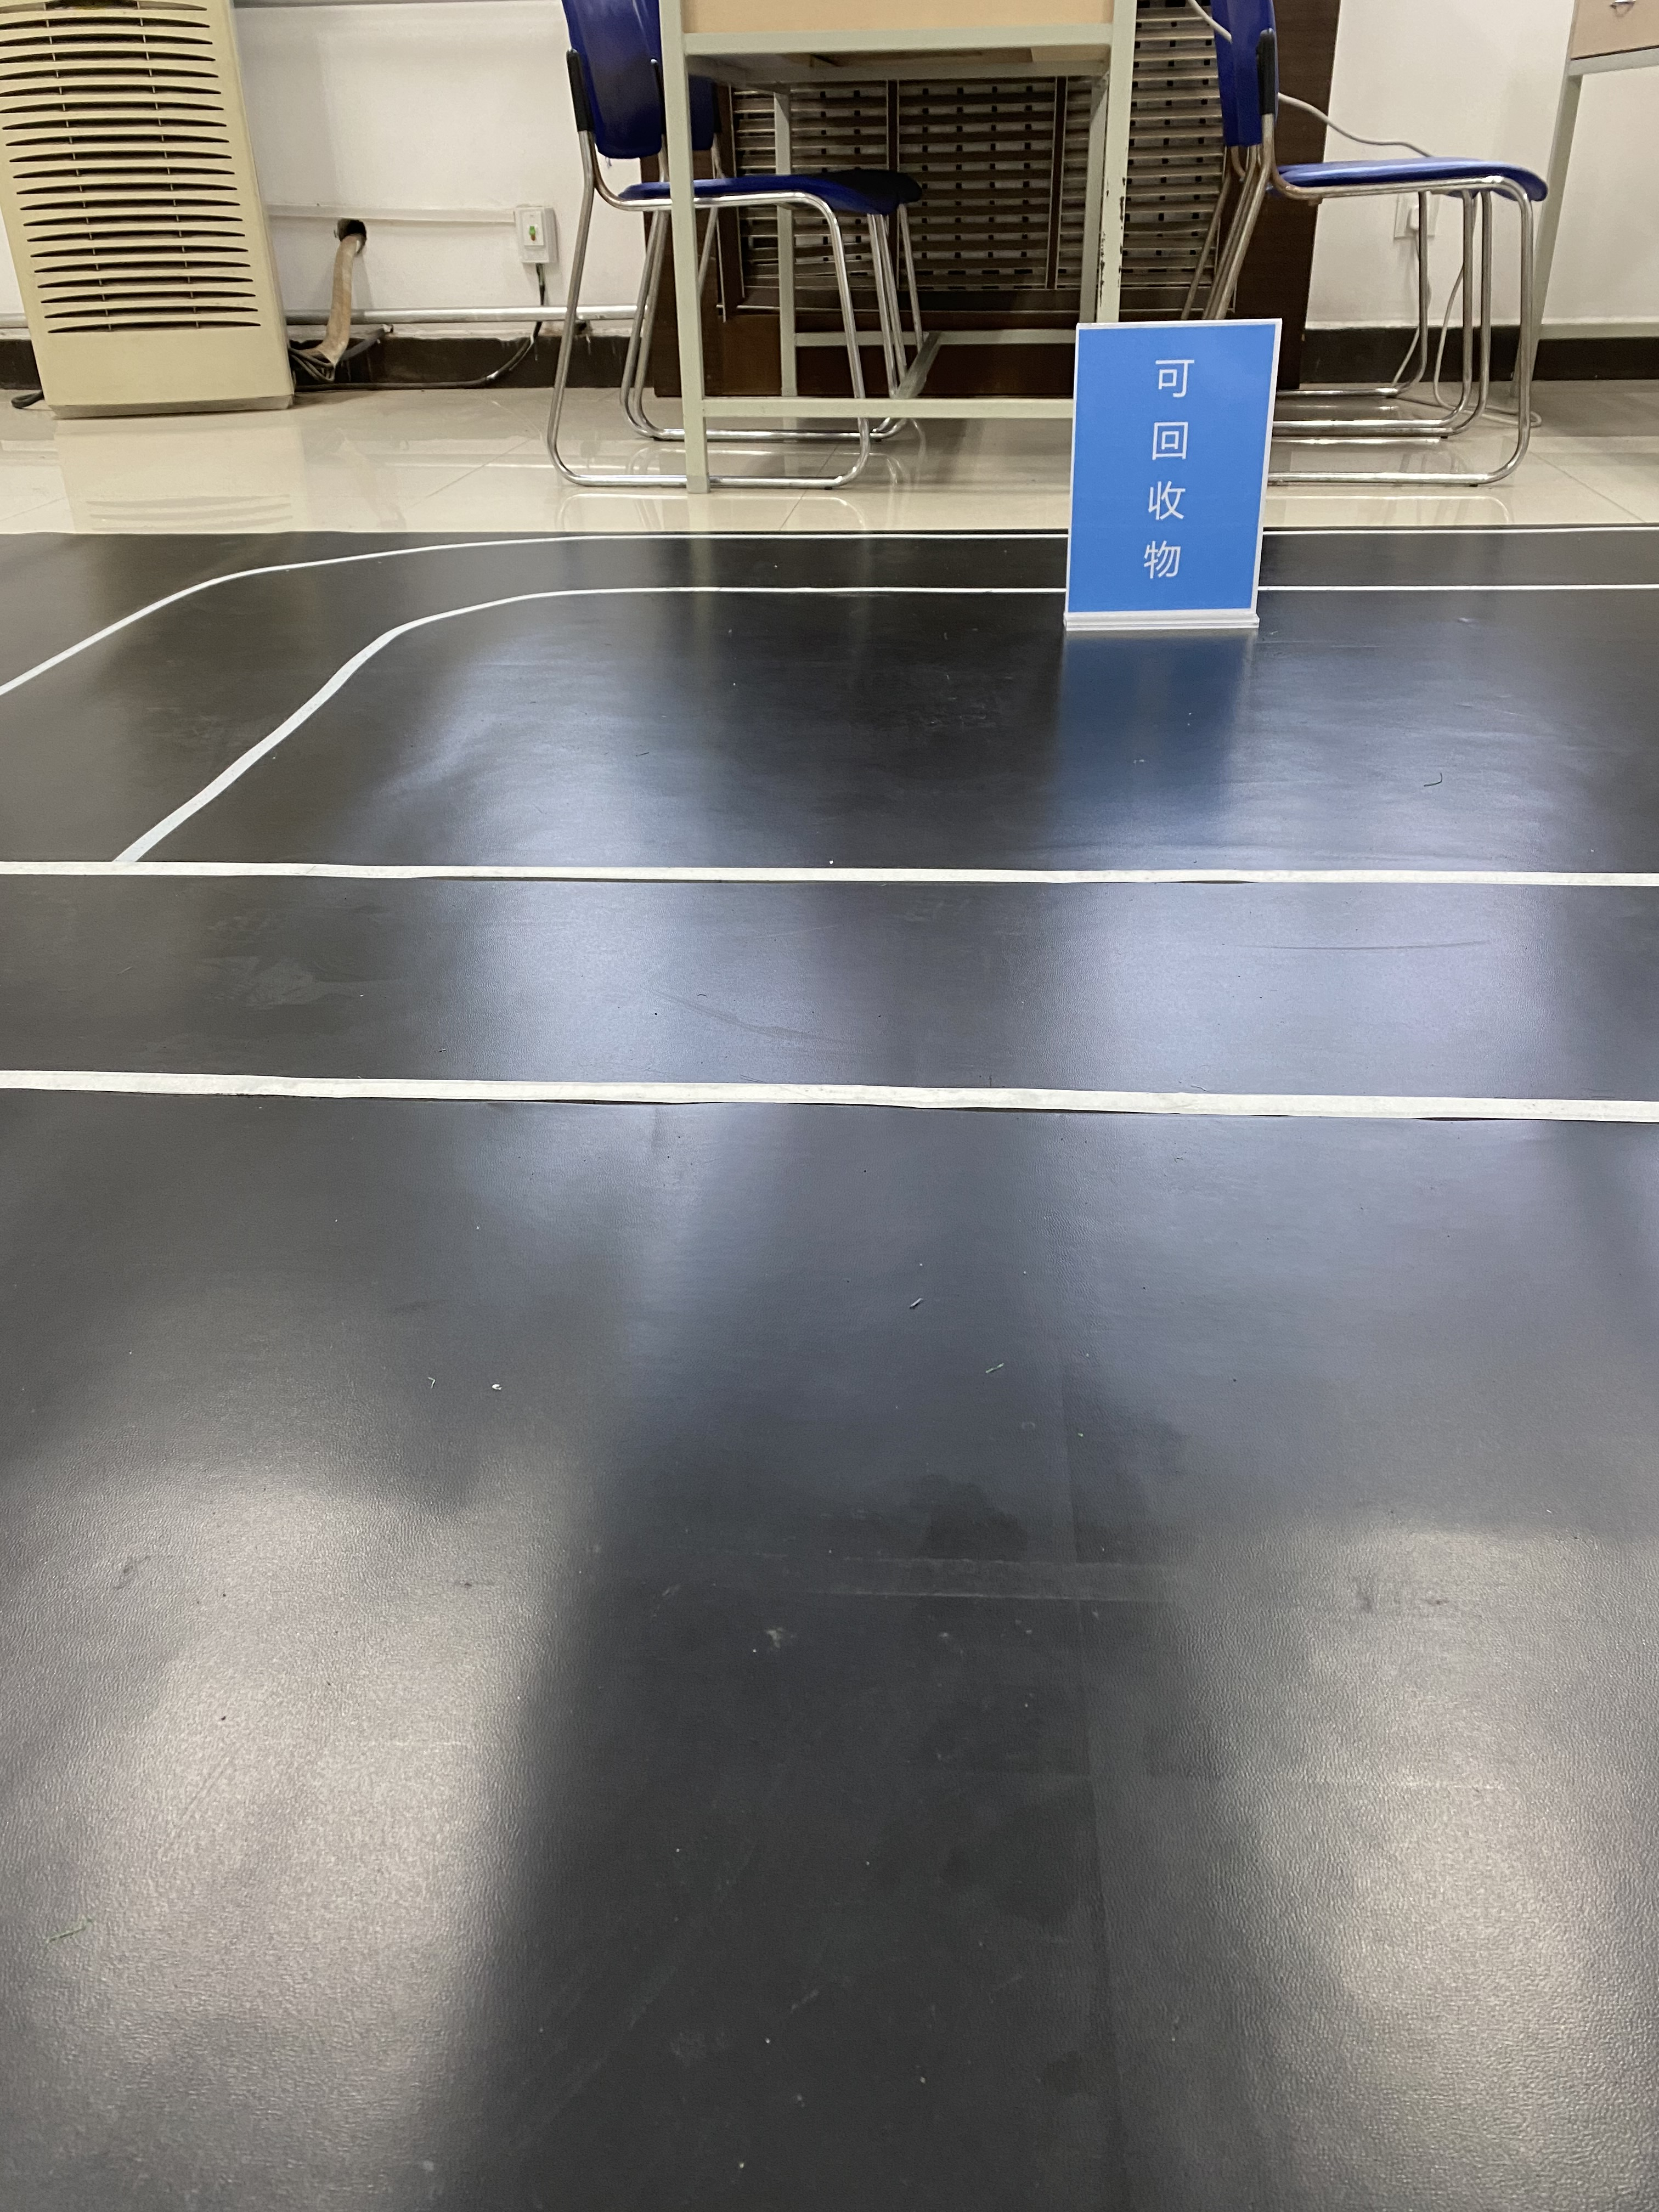blue: (1084, 327, 1249, 601)
